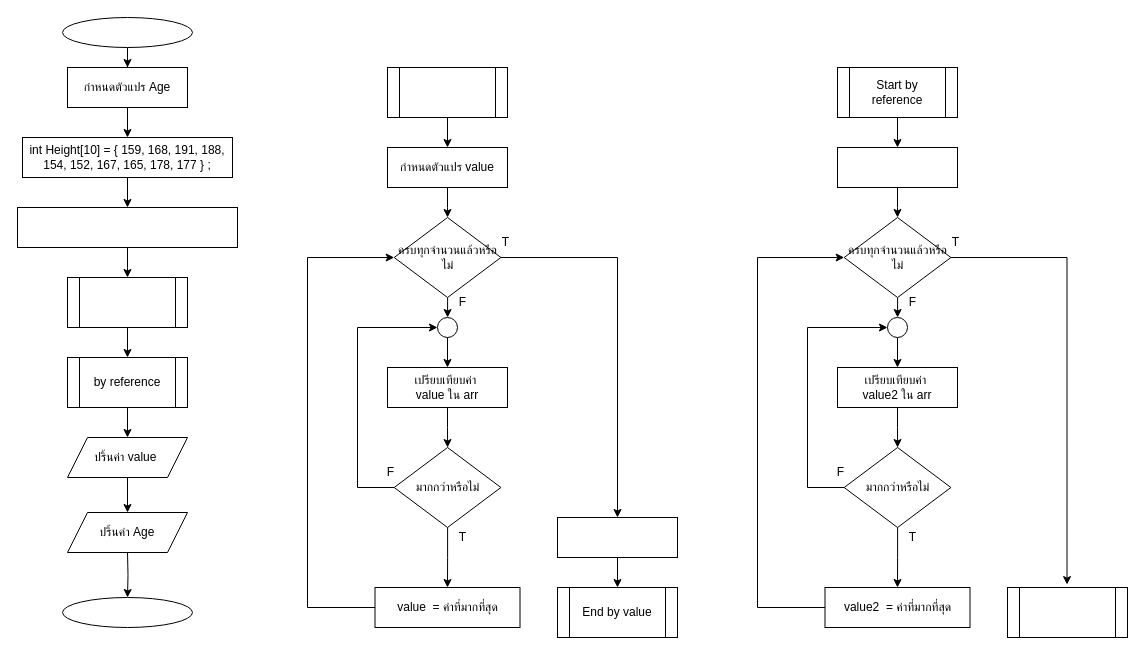
The diagram is 1145 pixels wide and 655 high, and some of its shapes have lost their labels. The shapes that lost their labels are listed below. From the top down, each one's centre as x and y in pixels, then its label:
(127,32): Start
(447,92): Start by value
(897,167): กำหนดตัวแปร value2
(127,227): int Age[10] = { 18, 19, 18, 17, 16, 18, 17, 18, 18, 18 } ;
(127,302): by value
(617,537): return value
(127,612): End
(1067,612): End by reference
